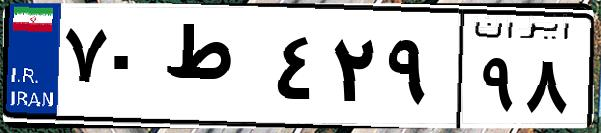0: (110, 28, 158, 98)
2: (330, 28, 385, 110)
4: (270, 28, 330, 110)
7: (57, 26, 110, 100)
8: (525, 38, 570, 115)
9: (385, 28, 445, 110), (475, 38, 525, 113)
ط: (158, 20, 270, 120)
